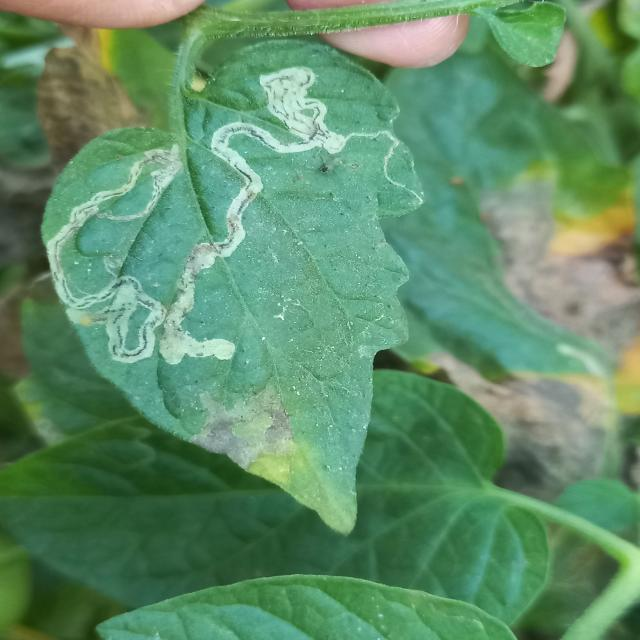Tuta absoluta: (111, 44, 367, 388), (41, 143, 187, 366)
